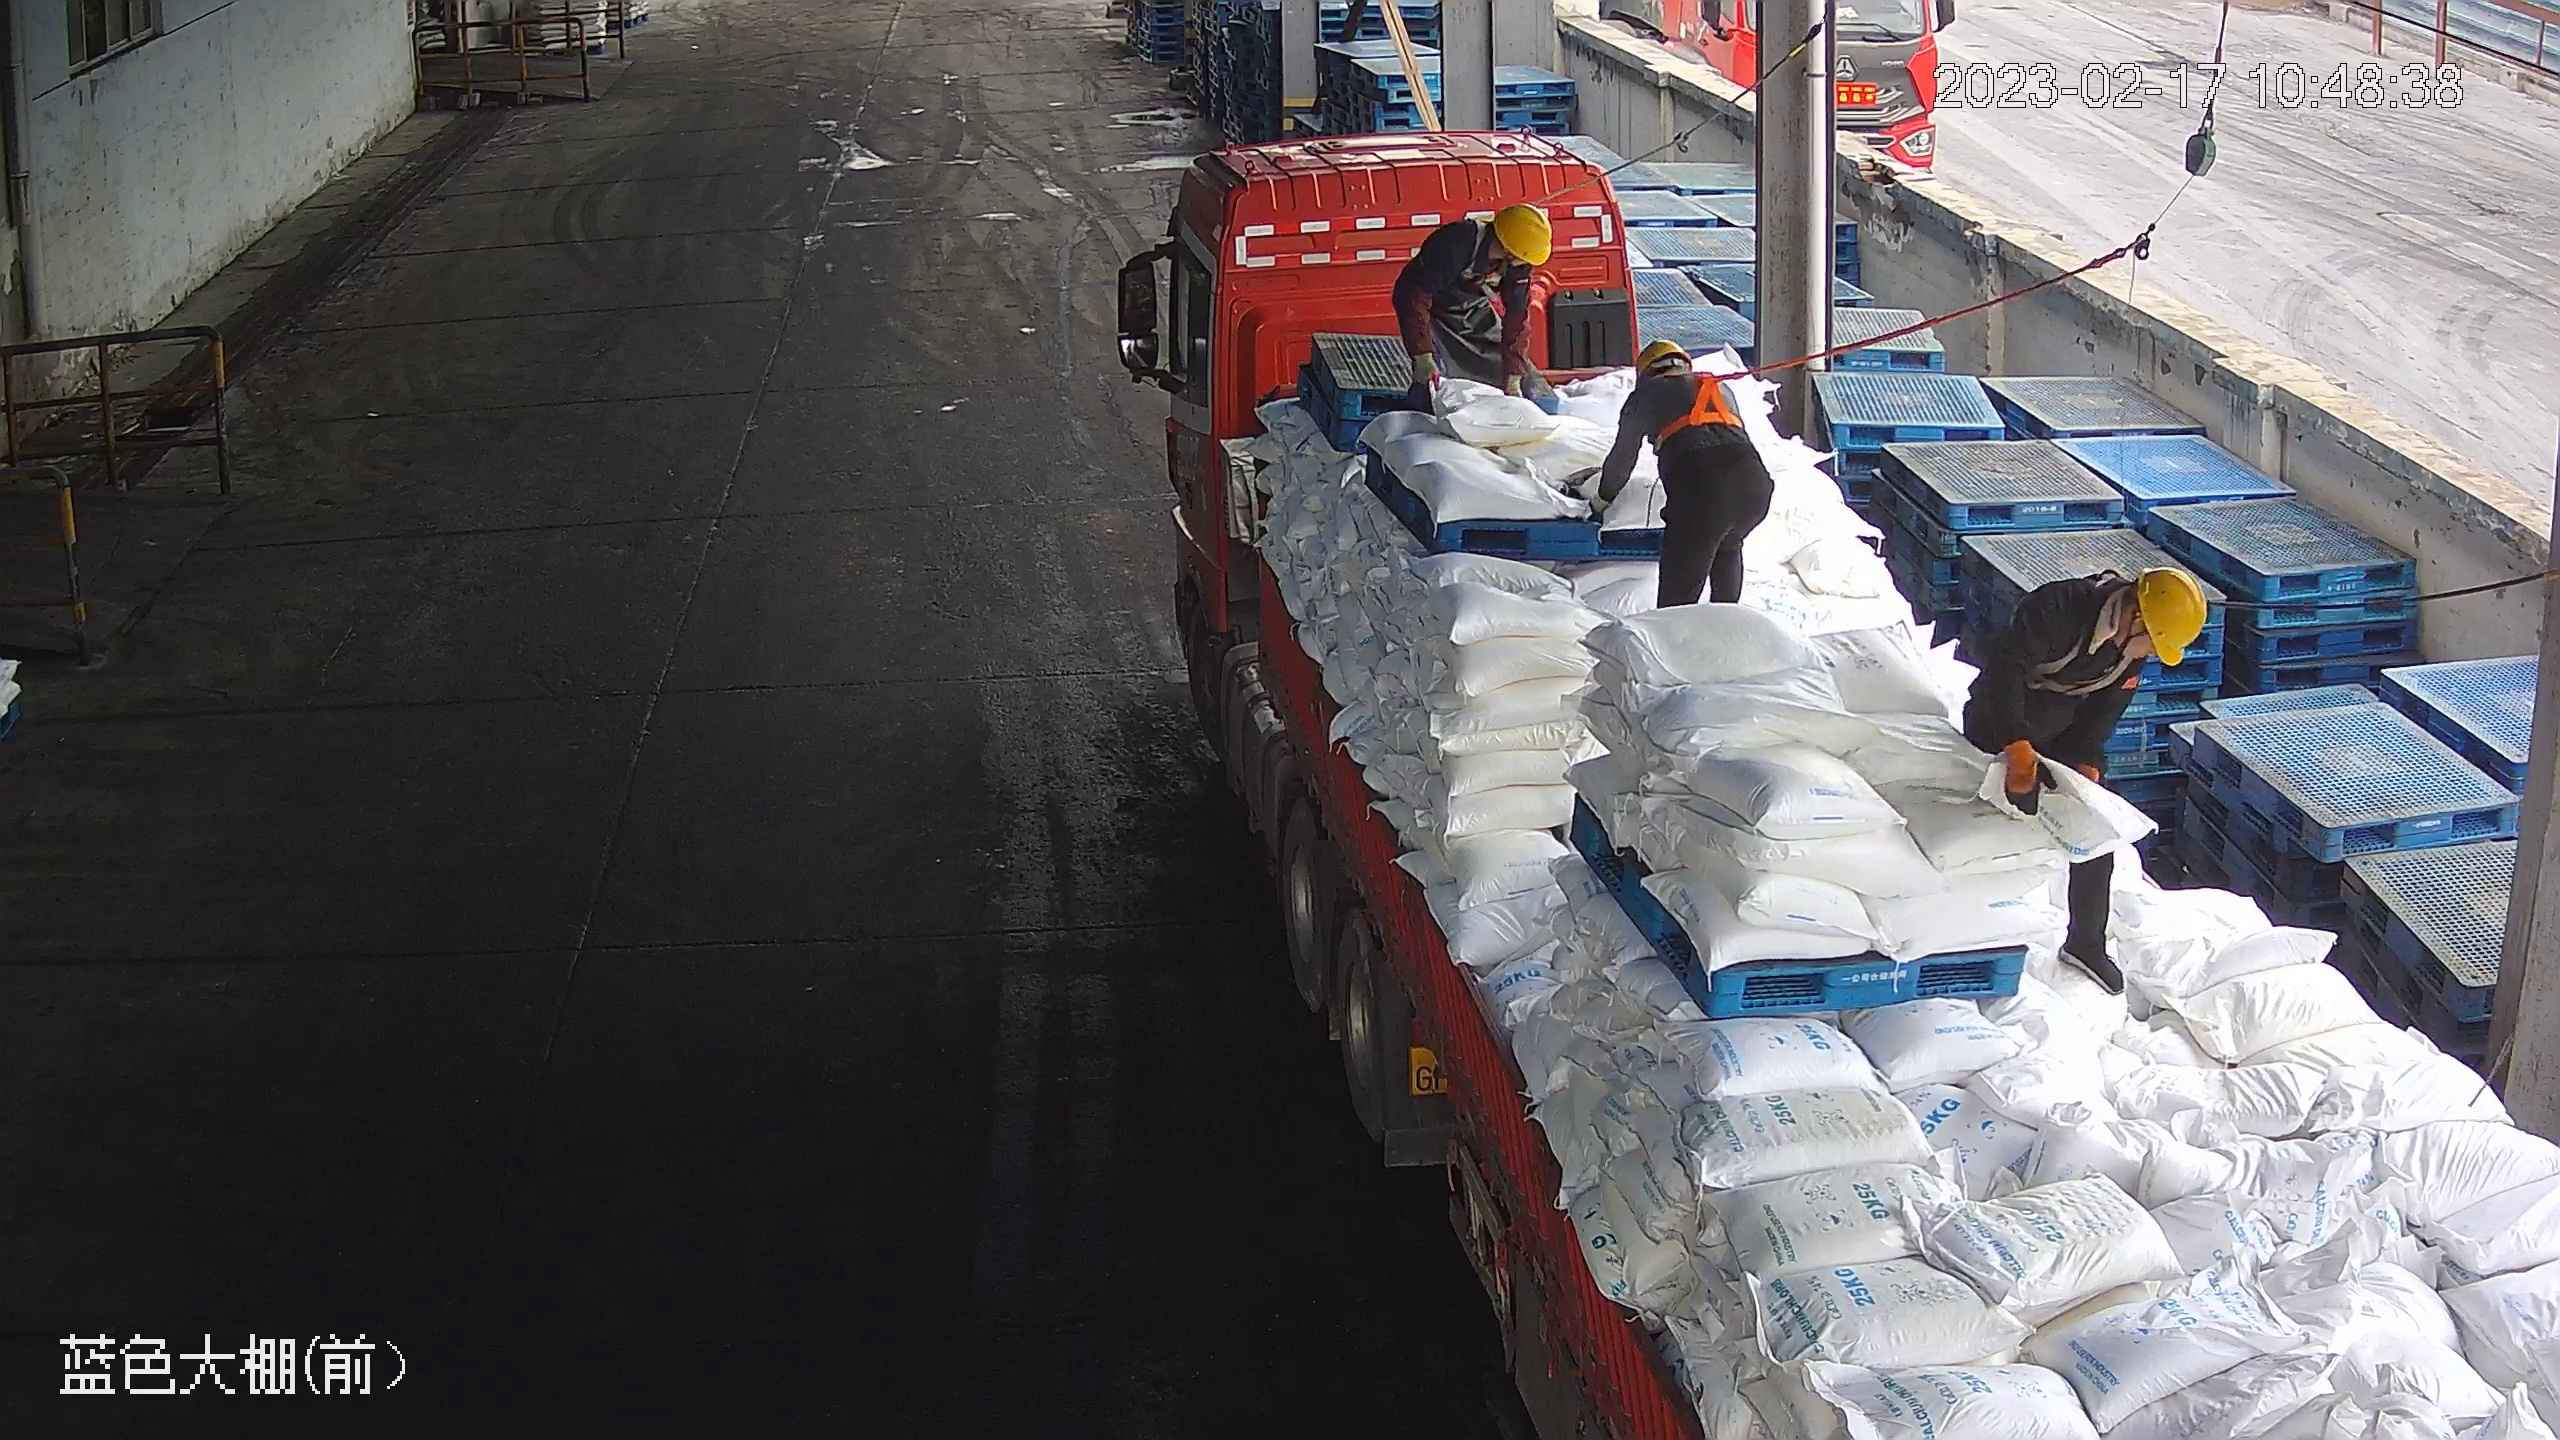belt: (2032, 568, 2146, 701), (1650, 366, 1748, 445)
head: (2028, 564, 2201, 701), (1418, 205, 1553, 286), (1624, 340, 1741, 423)
helmet: (2134, 564, 2207, 666), (1492, 202, 1553, 266), (1631, 339, 1690, 380)
people: (1963, 559, 2209, 996), (1587, 338, 1777, 614), (1392, 203, 1556, 419)
truck: (1113, 129, 2519, 1432)
